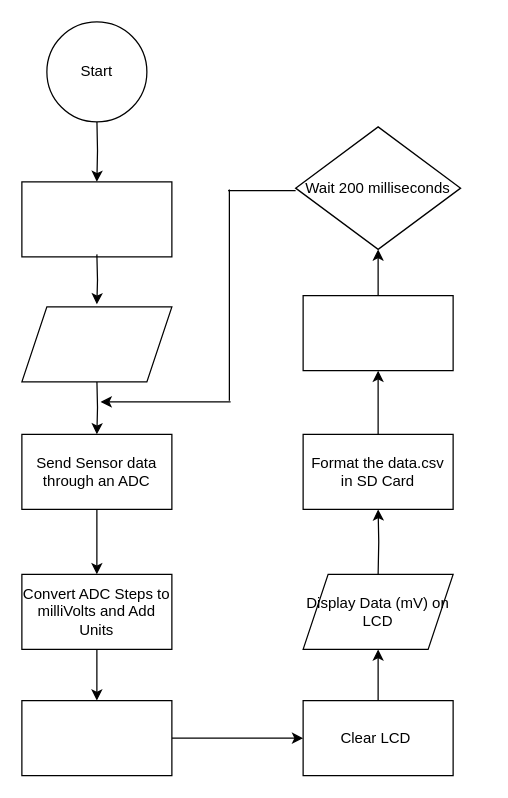
Some shapes in this 508 by 798 pixel diagram are drawn without their labels. The shapes that lost their labels are listed below. From the top down, each one's centre as x and y in pixels, then its label:
the point at 96,219: Initialize ADC, LCD, SD, Bluetooth
the point at 96,344: Read Sensor Data
the point at 377,332: Save Sensor Data to SD Card
the point at 96,737: Send sensor data via Bluetooth.Serial in Hexadecimal
